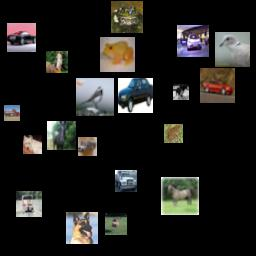automobile: (118, 78, 153, 113), (200, 68, 235, 103), (177, 25, 209, 57), (7, 23, 36, 52)
bird: (76, 78, 114, 116), (215, 32, 250, 67)
cat: (78, 137, 97, 156)
deer: (105, 213, 127, 235)
dog: (66, 212, 98, 244), (23, 135, 42, 154), (173, 84, 189, 100)
frog: (100, 37, 135, 72), (111, 1, 143, 33), (164, 124, 183, 143)
ship: (16, 191, 42, 217)
truck: (115, 170, 137, 192), (4, 105, 20, 121)
